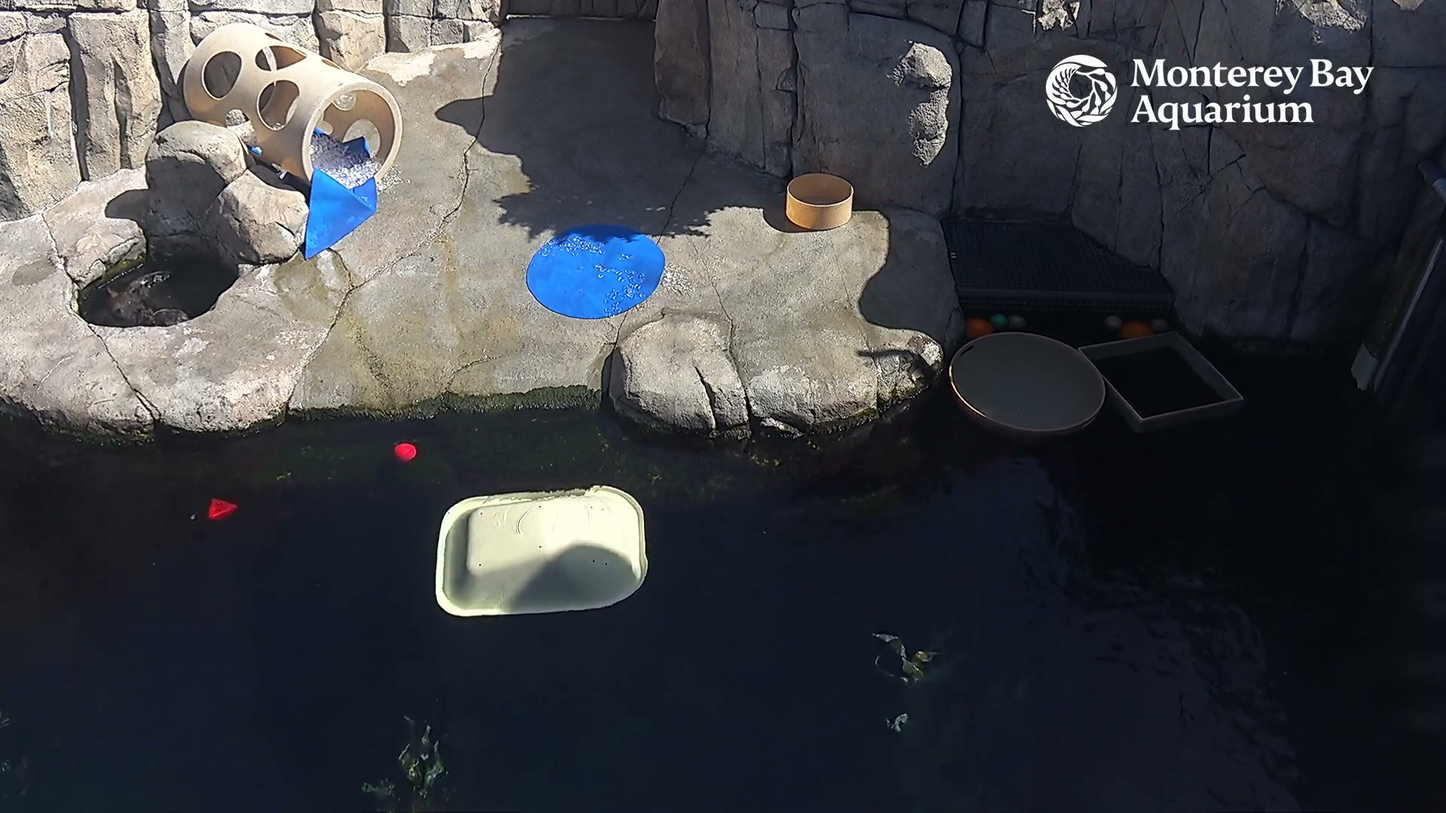Southern Sea Otter: (102, 271, 195, 337)
